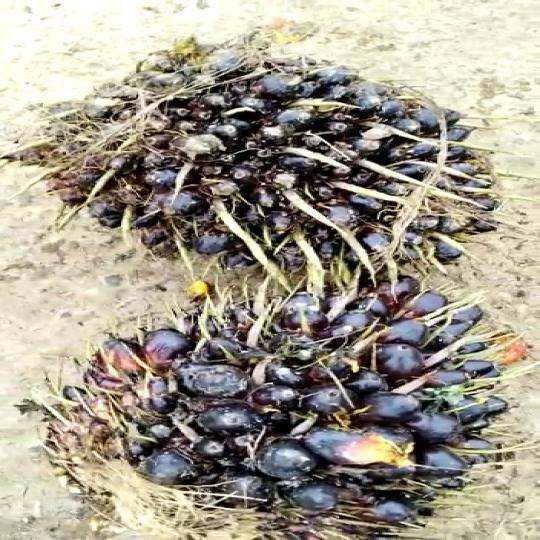mentah: (0, 36, 503, 290), (65, 269, 488, 540)
